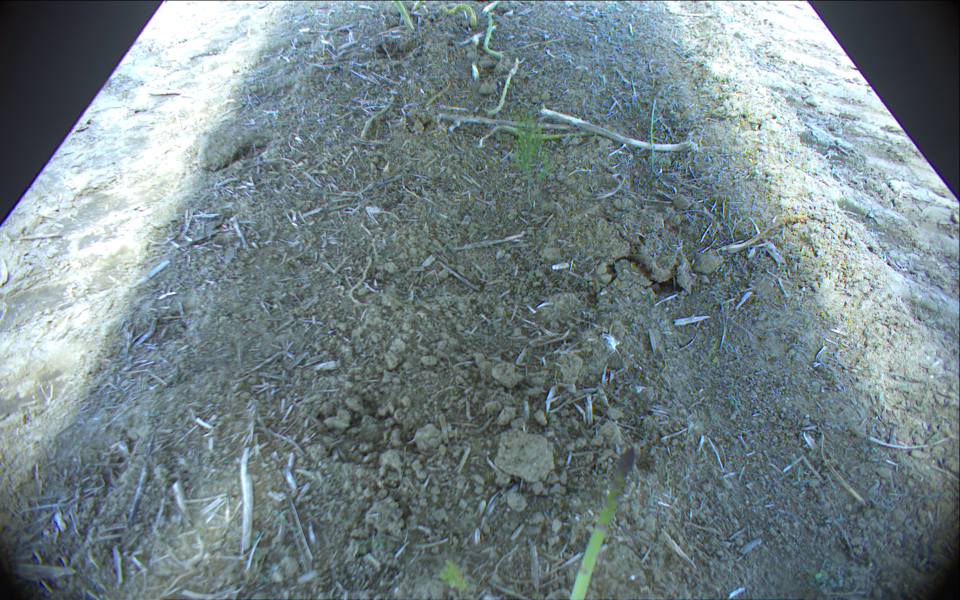aspa: (569, 445, 634, 600), (477, 124, 600, 148), (486, 59, 523, 116), (360, 93, 396, 142), (483, 14, 504, 59), (423, 78, 451, 109), (439, 2, 475, 23), (389, 1, 414, 29), (479, 1, 507, 17)
